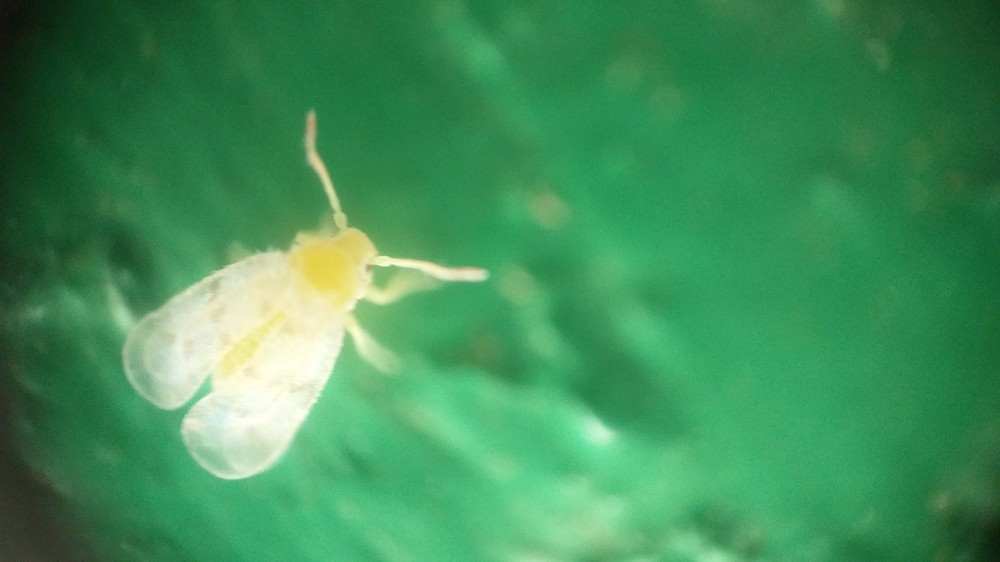Mosca Blanca: (110, 105, 507, 490)
